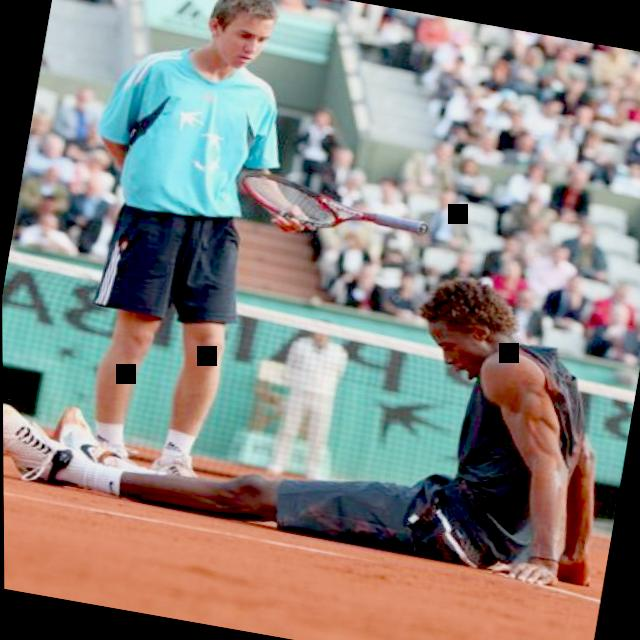Fall-Detected: (1, 194, 634, 582)
